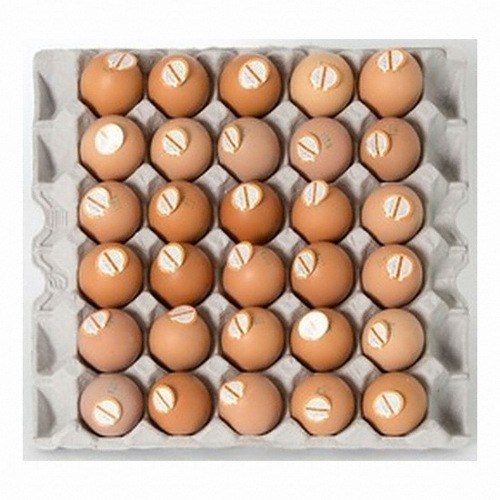egg: (75, 51, 431, 439)
